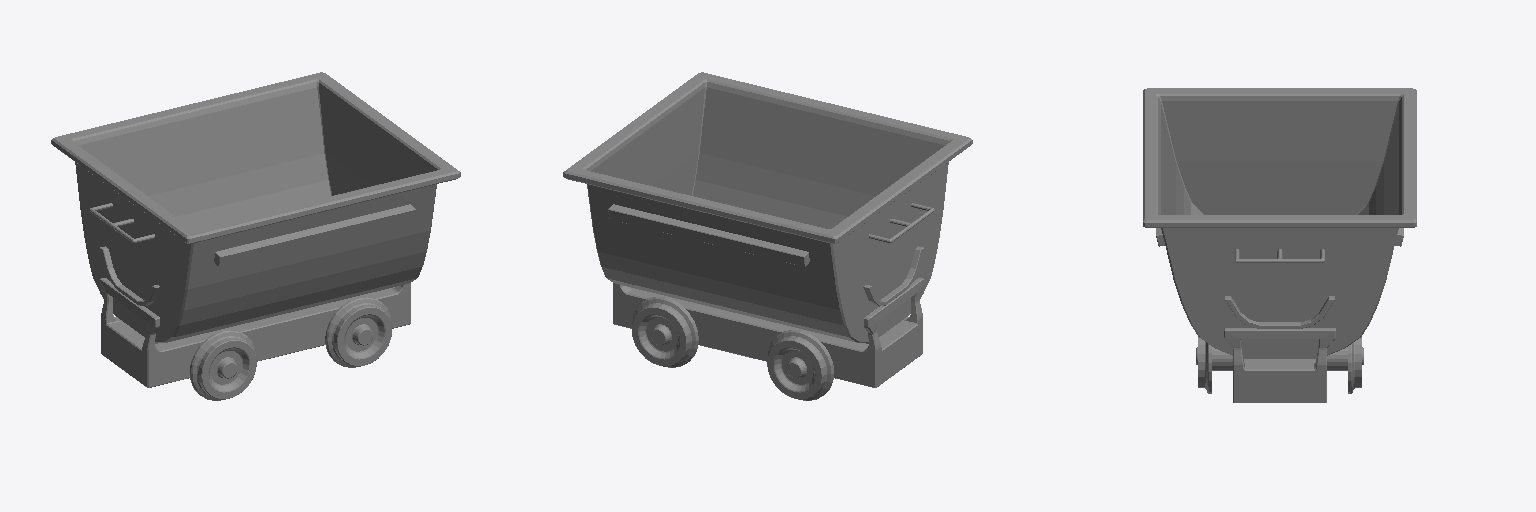
The model's file is MineCart.obj.
3 views of the same model, side by side, from view 1: azimuth 30°, elevation 25°; view 2: azimuth 150°, elevation 25°; view 3: azimuth 270°, elevation 25° (orthographic).
Visible parts, largest first — view 1: Cart; view 2: Cart; view 3: Cart.
Boxes of the visible parts, x1=… form: Cart: x1=51, y1=72, x2=460, y2=400; Cart: x1=563, y1=72, x2=972, y2=400; Cart: x1=1143, y1=88, x2=1416, y2=402.
Size of the model in its own units: 177 by 119 by 145.